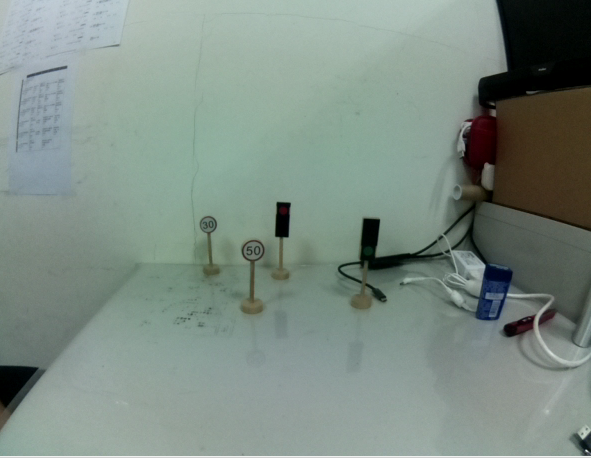Green: (356, 217, 382, 266)
Red: (273, 202, 293, 244)
Speed30: (199, 215, 219, 236)
Speed50: (239, 238, 267, 264)
